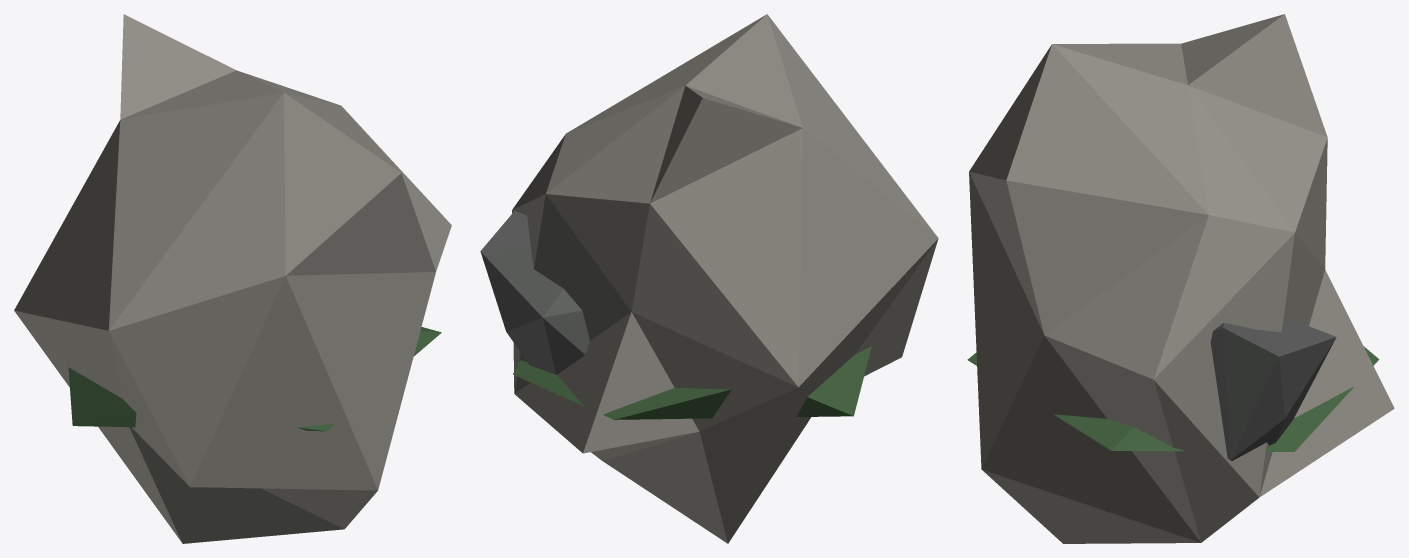
Rendered from rock_2_lod1.glb.
3 renders of one model, left to right at view 1: azimuth 30°, elevation 25°; view 2: azimuth 150°, elevation 25°; view 3: azimuth 270°, elevation 25°, orthographic. The views are drawn at different scales.
Visible parts, largest first — view 1: rock_2_lod1; view 2: rock_2_lod1; view 3: rock_2_lod1.
Part boxes in pixels (x1=…): rock_2_lod1: x1=14, y1=14, x2=451, y2=543; rock_2_lod1: x1=480, y1=14, x2=938, y2=543; rock_2_lod1: x1=967, y1=14, x2=1394, y2=543.
Bounding box in the file's own units: 1.87 × 2.28 × 1.72.
